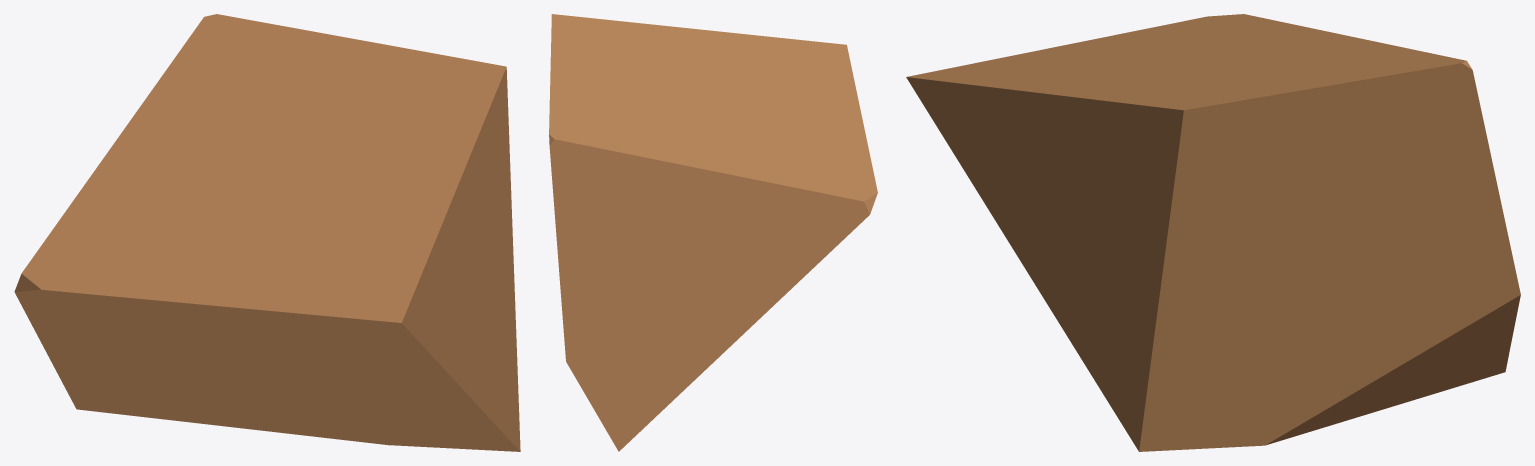
File: asteroid_2_1.glb
3 views of the same model, side by side, from view 1: azimuth 30°, elevation 25°; view 2: azimuth 150°, elevation 25°; view 3: azimuth 270°, elevation 25° (orthographic). The views are drawn at different scales.
Visible parts, largest first — view 1: Asteriod_cell_2_1; view 2: Asteriod_cell_2_1; view 3: Asteriod_cell_2_1.
Part boxes in pixels (x1,y1,x2,y2): Asteriod_cell_2_1: (14, 14, 520, 451); Asteriod_cell_2_1: (549, 14, 877, 451); Asteriod_cell_2_1: (906, 14, 1520, 451).
Bounding box in the file's own units: 0.9412 × 0.7875 × 1.15.
